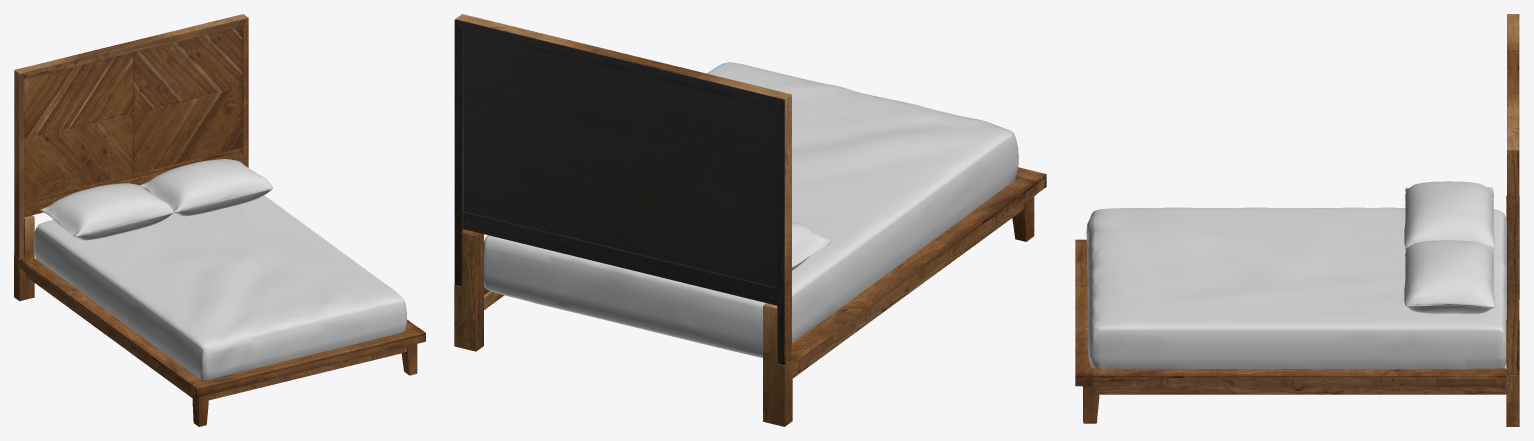
3 renders of one model, left to right at view 1: azimuth 30°, elevation 25°; view 2: azimuth 150°, elevation 25°; view 3: azimuth 270°, elevation 25°, orthographic. The views are drawn at different scales.
Visible parts, largest first — view 1: RootNode; view 2: RootNode; view 3: RootNode.
Boxes of the visible parts, left/top/right/bottom form: RootNode: left=14, top=14, right=425, bottom=426; RootNode: left=454, top=14, right=1046, bottom=426; RootNode: left=1075, top=14, right=1519, bottom=426.
Size of the model in its own units: 1.62 by 1.54 by 2.23.
1 material, 1 textured.
